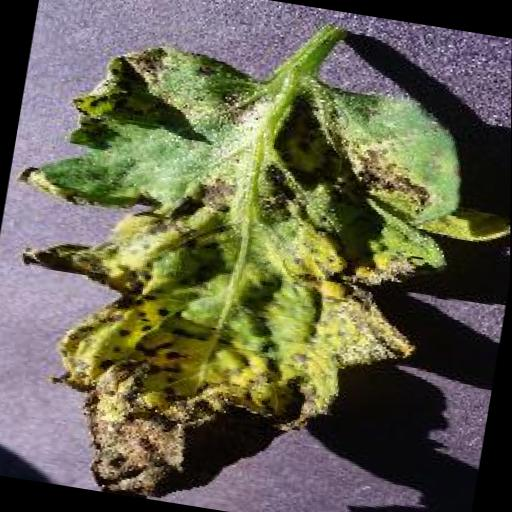Septoria: (0, 23, 512, 512)
